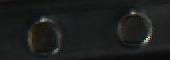joints: (112, 7, 154, 49), (23, 13, 63, 57)
